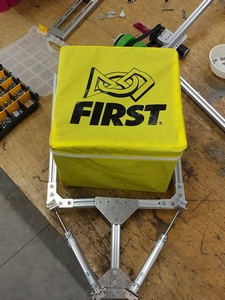cube: (51, 45, 188, 193)
